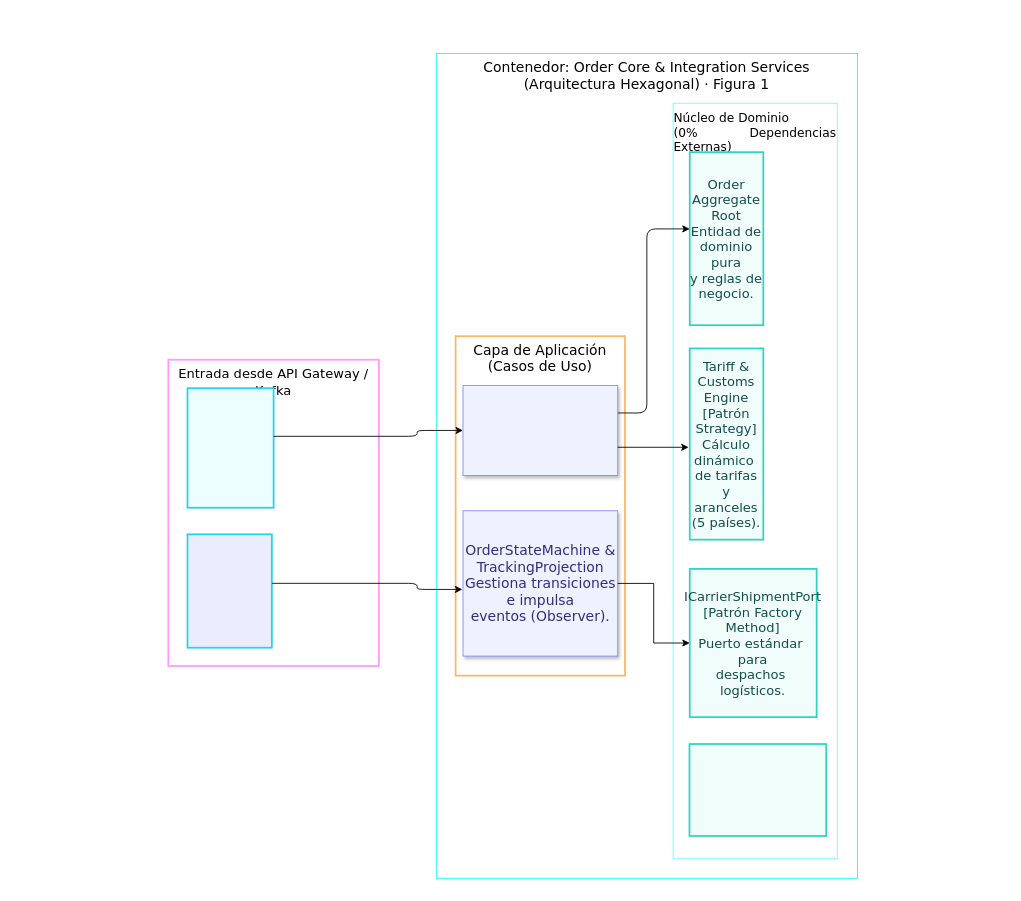
Some shapes in this 1021 by 901 pixel diagram are drawn without their labels. The shapes that lost their labels are listed below. From the top down, each one's centre as x and y in pixels, then its label:
At [230,447]: "Order REST Controller [FastAPI Router]".
At [541,431]: "CreateOrderUseCase Coordina validación, aranceles y persistencia.".
At [229,590]: "Event Consumer Controller [Kafka Listener]".
At [757,789]: "IPaymentProcessorPort [Patrón Adapter] Puerto estándar para cobros y billeteras.".
